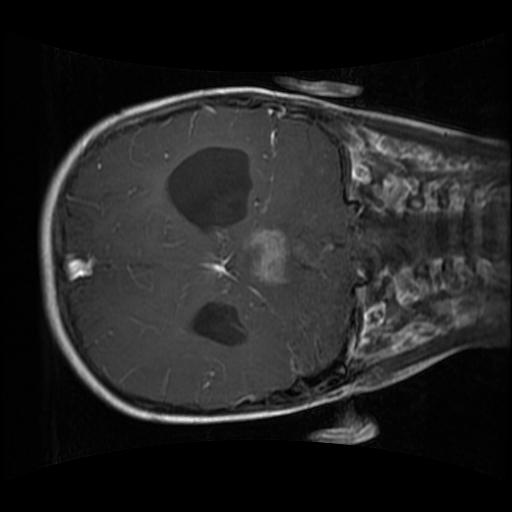glioma: (161, 142, 296, 288)
